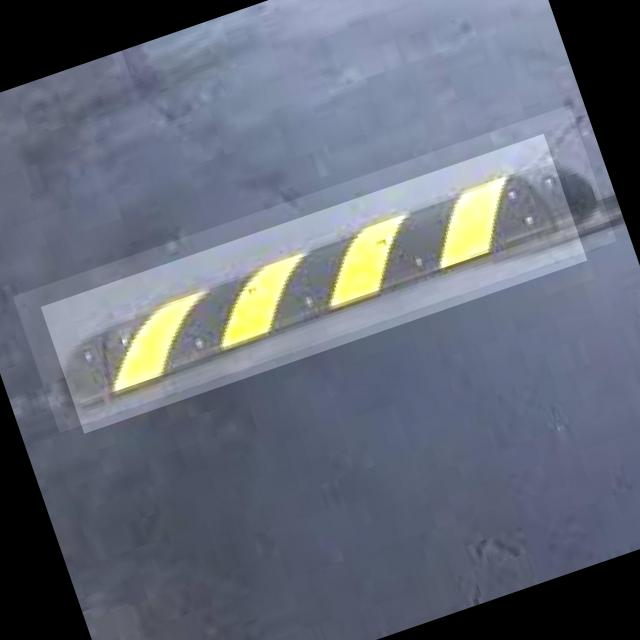bump: (40, 134, 588, 434)
